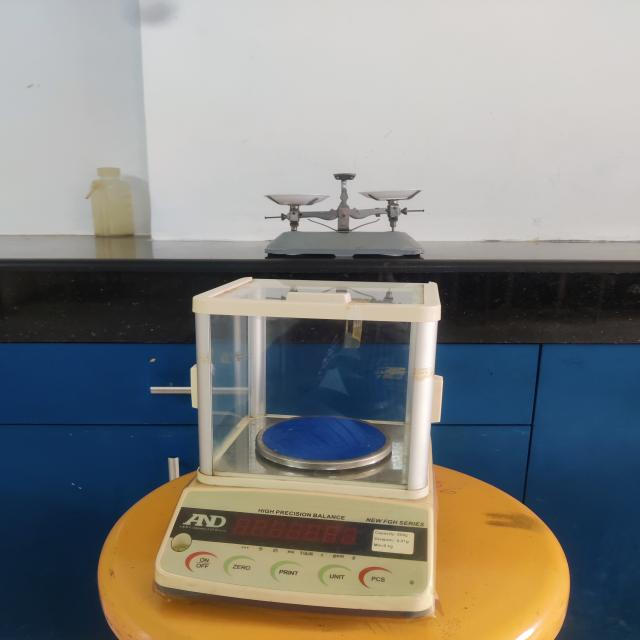Mechanical_Balance_Scale: (222, 156, 448, 267)
Precision_Weight_Scale: (84, 261, 517, 640)
